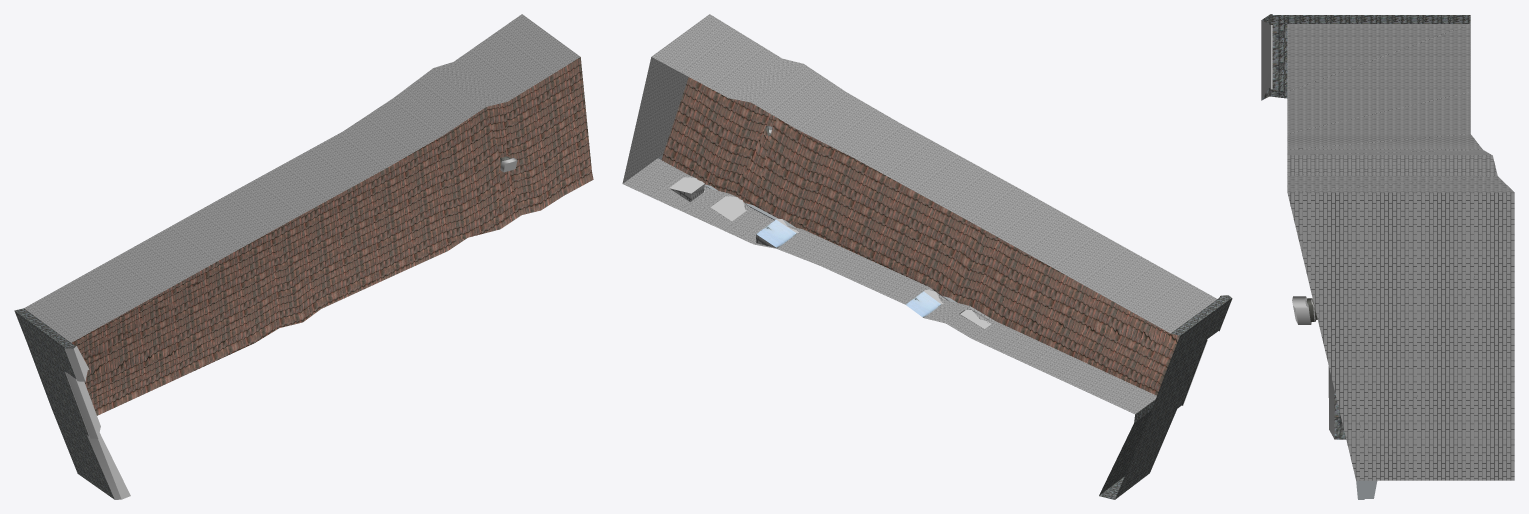
Rendered from Toompea_1_2-origo.obj.
The picture shows the model from 3 angles, left to right: view 1: azimuth 30°, elevation 25°; view 2: azimuth 150°, elevation 25°; view 3: azimuth 270°, elevation 25°; orthographic projection. The views are drawn at different scales.
Parts seen in each view (by area): view 1: Toompea1_2; view 2: Toompea1_2; view 3: Toompea1_2.
Boxes of the visible parts, x1=… form: Toompea1_2: x1=14, y1=14, x2=593, y2=499; Toompea1_2: x1=622, y1=14, x2=1232, y2=499; Toompea1_2: x1=1261, y1=14, x2=1514, y2=499.
Size of the model in its own units: 32.12 by 19 by 6.6.
